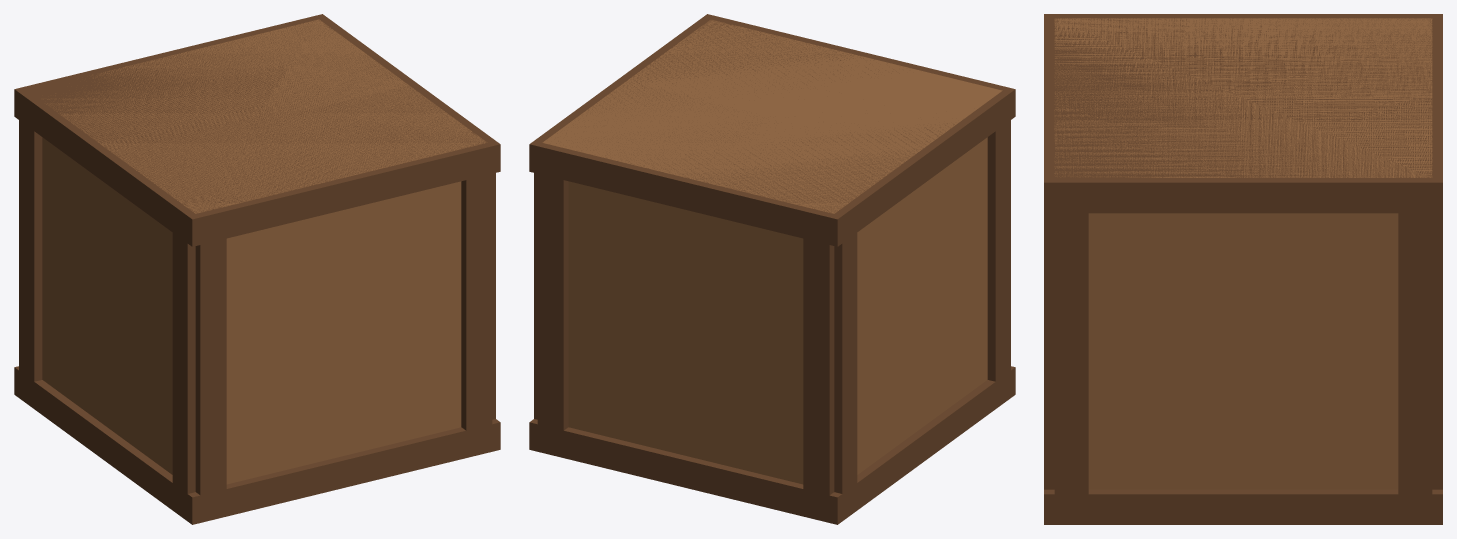
File: SM_Crate.fbx
3 views of the same model, side by side, from view 1: azimuth 30°, elevation 25°; view 2: azimuth 150°, elevation 25°; view 3: azimuth 270°, elevation 25° (orthographic). The views are drawn at different scales.
Visible parts, largest first — view 1: Crate; view 2: Crate; view 3: Crate.
Boxes of the visible parts, left/top/right/bottom form: Crate: left=14, top=14, right=500, bottom=524; Crate: left=529, top=14, right=1015, bottom=524; Crate: left=1044, top=14, right=1442, bottom=524.
Bounding box in the file's own units: 95 × 95 × 90.
